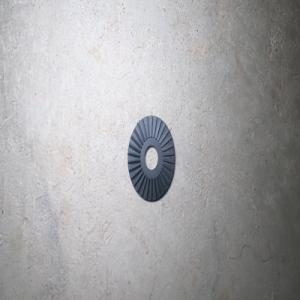Washer: (127, 115, 175, 201)
